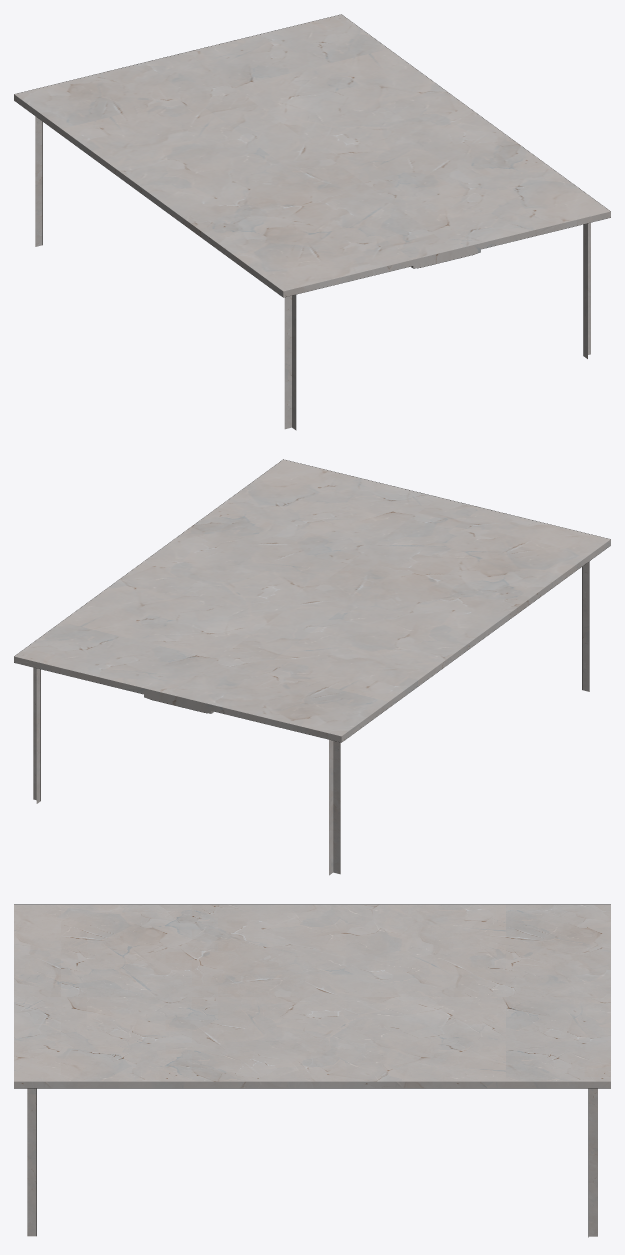
File: Celling.fbx
3 renders of one model, top to bottom at view 1: azimuth 30°, elevation 25°; view 2: azimuth 150°, elevation 25°; view 3: azimuth 270°, elevation 25°, orthographic. The views are drawn at different scales.
Visible parts, largest first — view 1: Celling; view 2: Celling; view 3: Celling.
Boxes of the visible parts, <box> form: Celling: <box>14,14,610,430</box>; Celling: <box>14,459,610,875</box>; Celling: <box>14,904,610,1237</box>.
Bounding box in the file's own units: 974 × 421 × 1387.
